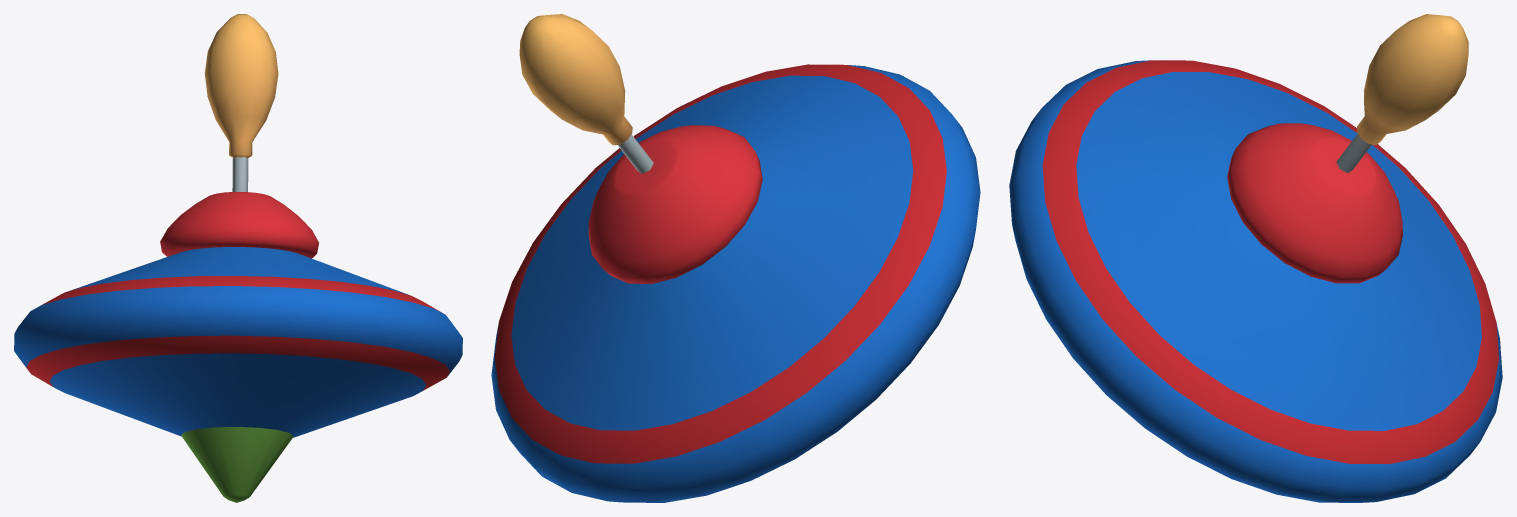
File: Toy_03.glb
3 renders of one model, left to right at view 1: azimuth 30°, elevation 25°; view 2: azimuth 150°, elevation 25°; view 3: azimuth 270°, elevation 25°, orthographic. The views are drawn at different scales.
Visible parts, largest first — view 1: Toy_03; view 2: Toy_03; view 3: Toy_03.
Boxes of the visible parts, box(x1,y1,x2,y2) form: Toy_03: box(14, 14, 462, 502); Toy_03: box(491, 14, 980, 502); Toy_03: box(1009, 14, 1502, 502).
Size of the model in its own units: 0.2877 by 0.2788 by 0.2666.
1 material, 1 textured.
